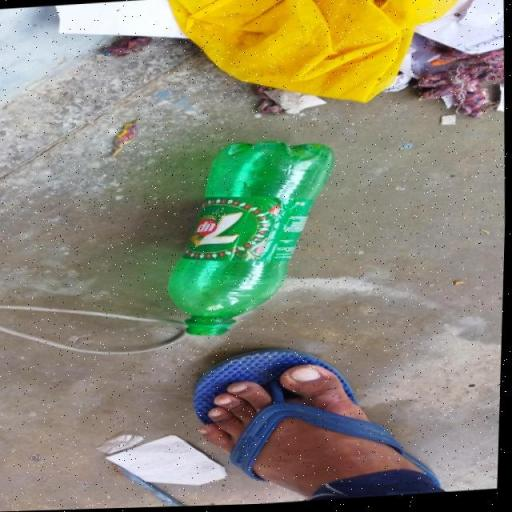plastic: (162, 138, 343, 340)
